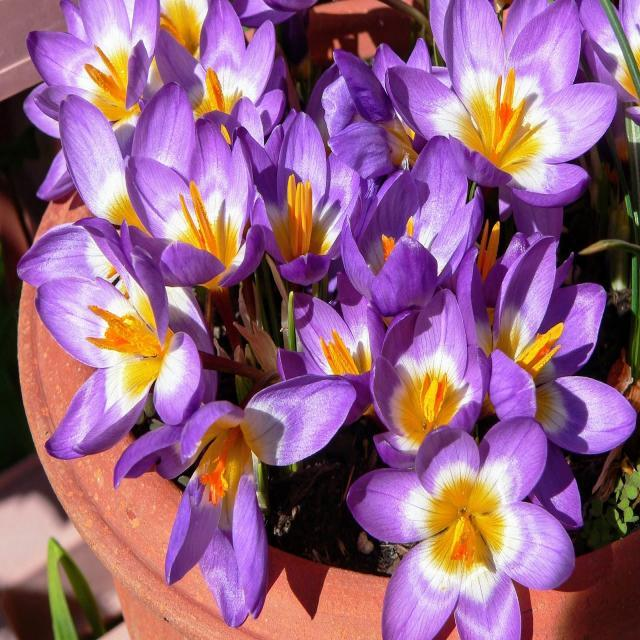Flower: (361, 282, 640, 476), (375, 0, 609, 203), (140, 119, 366, 314), (363, 436, 572, 640), (132, 406, 352, 588), (16, 0, 200, 200), (51, 275, 238, 452), (182, 18, 320, 198), (281, 272, 401, 426)
